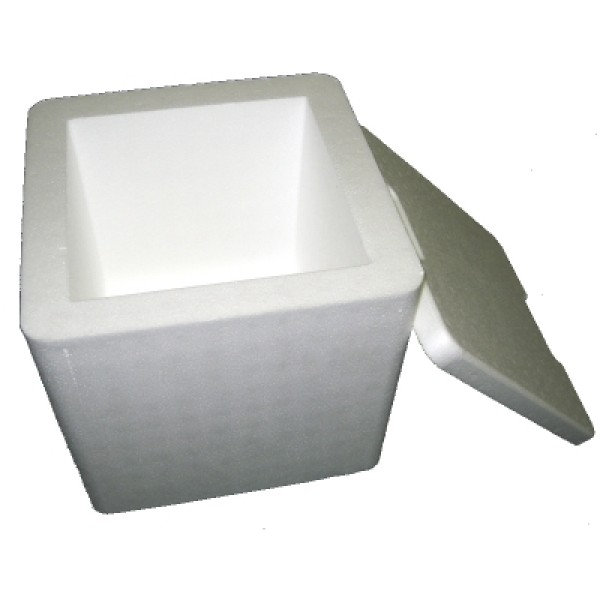泡沫箱: (20, 74, 592, 512)
